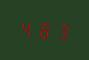eight: (36, 19, 52, 40)
four: (18, 18, 34, 39)
three: (53, 20, 69, 41)
